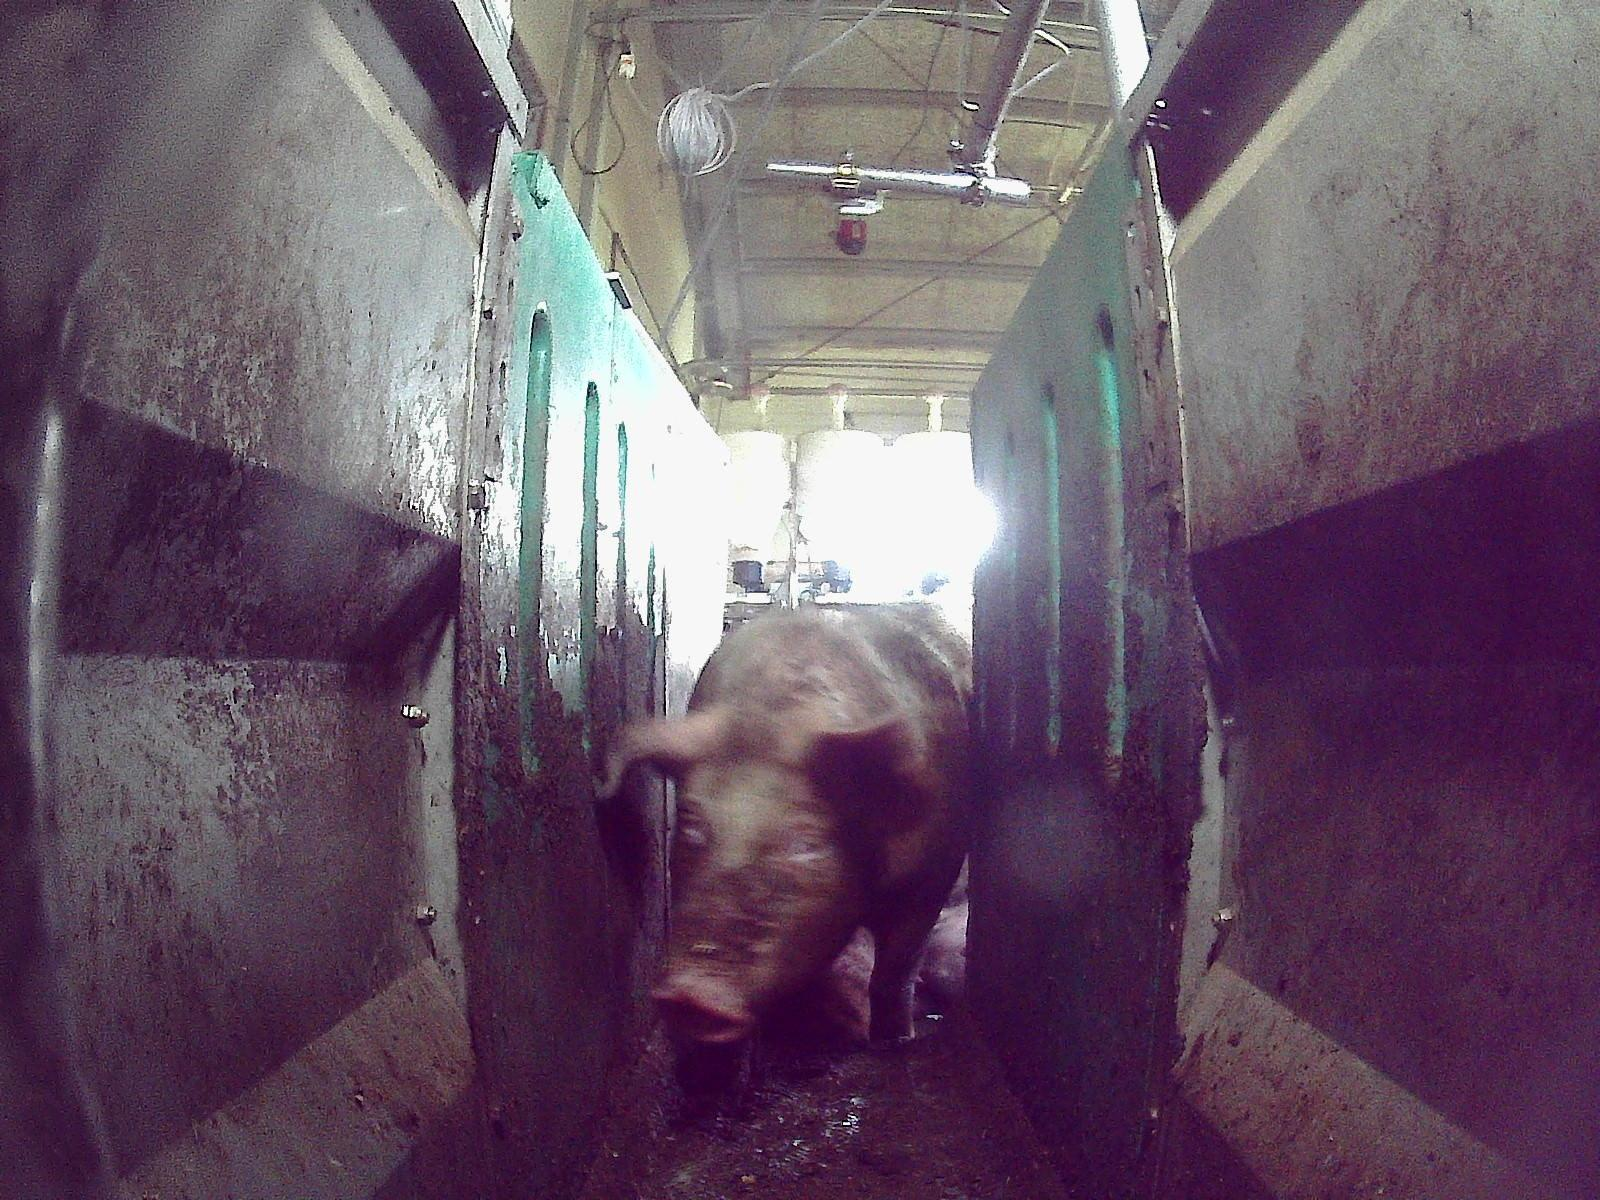Face: (637, 708, 885, 1044)
